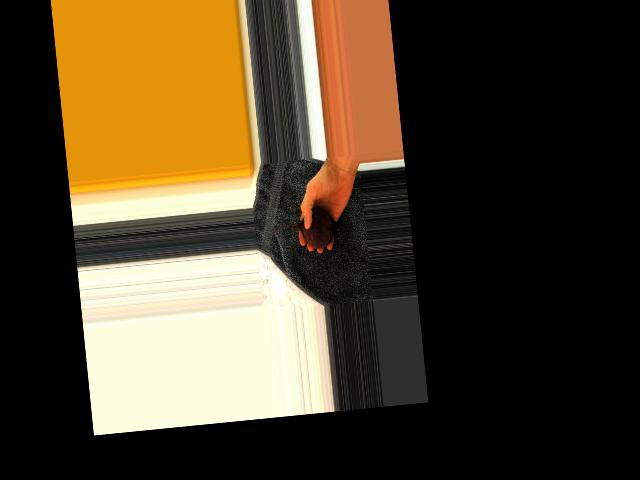beet: (269, 206, 339, 253)
